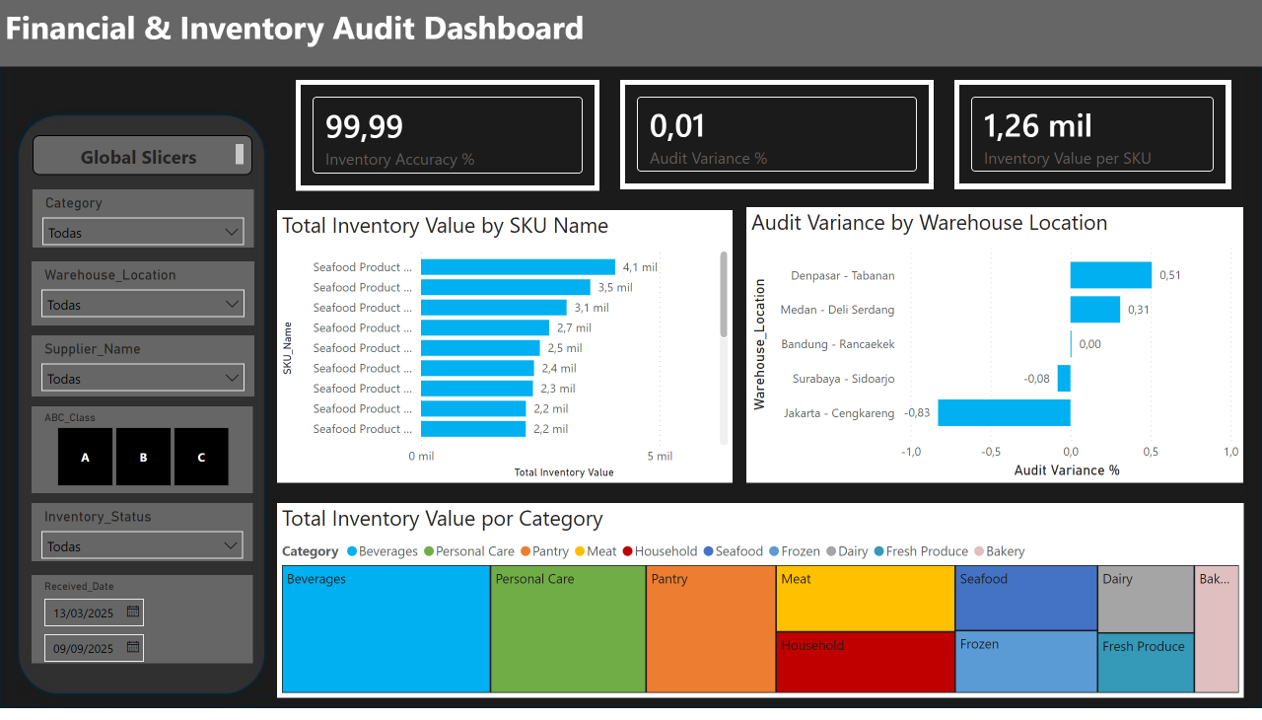

Layout of this report page (visuals, bound fields, positions):
{"tool":"powerbi","page":{"name":"FINANCIAL & AUDIT","canvas":[1280,720],"ordinal":4},"visuals":[{"type":"cardVisual","fields":{"Data":["Inventory.Inventory Accuracy %"]},"box":[299.5,80.6,308.2,112.3],"z":0},{"type":"cardVisual","fields":{"Data":["Inventory.Audit Variance %"]},"box":[629.3,80.6,318.2,110.9],"z":1000},{"type":"cardVisual","fields":{"Data":["Inventory.Inventory Value per SKU"]},"box":[967.7,80.6,280.8,110.9],"z":2000},{"type":"treemap","fields":{"Group":["Inventory.Category"],"Values":["Inventory.Total Inventory Value"]},"box":[280.8,509.8,980.6,197.3],"z":3000},{"type":"barChart","title":"Audit Variance  by Warehouse Location","fields":{"Category":["Inventory.Warehouse_Location"],"Y":["Inventory.Audit Variance %"]},"box":[757.4,210.2,504,279.4],"z":4000},{"type":"barChart","title":"Total Inventory Value by SKU Name","fields":{"Category":["Inventory.SKU_Name"],"Y":["Inventory.Total Inventory Value"]},"box":[280.8,213.1,462.2,276.5],"z":5000},{"type":"slicer","fields":{"Values":["Inventory.Category"]},"box":[33.1,191.5,224.6,59],"z":6000},{"type":"slicer","fields":{"Values":["Inventory.Warehouse_Location"]},"box":[31.7,265,226.1,64.8],"z":7000},{"type":"slicer","fields":{"Values":["Inventory.Supplier_Name"]},"box":[31.7,339.8,226.1,61.9],"z":8000},{"type":"slicer","fields":{"Values":["Inventory.ABC_Class"]},"box":[31.7,411.8,224.6,87.8],"z":9000},{"type":"slicer","fields":{"Values":["Inventory.Inventory_Status"]},"box":[31.7,509.8,224.6,59],"z":10000},{"type":"slicer","fields":{"Values":["Inventory.Received_Date"]},"box":[31.7,583.2,224.6,89.3],"z":11000},{"type":"textbox","box":[33.1,136.8,223.2,40.3],"z":12000},{"type":"textbox","box":[0,0,1280.2,67.7],"z":13000}]}

Visuals, with their boxes in screenshot pixels (x1, y1, x2, y2), scaled from the page's 1280x720 canvas onto the 1262x720 screenshot:
cardVisual - Inventory.Inventory Accuracy %: x1=295, y1=81, x2=599, y2=193
cardVisual - Inventory.Audit Variance %: x1=620, y1=81, x2=934, y2=192
cardVisual - Inventory.Inventory Value per SKU: x1=954, y1=81, x2=1231, y2=192
treemap - Inventory.Category x Inventory.Total Inventory Value: x1=277, y1=510, x2=1244, y2=707
"Audit Variance  by Warehouse Location" barChart: x1=747, y1=210, x2=1244, y2=490
"Total Inventory Value by SKU Name" barChart: x1=277, y1=213, x2=733, y2=490
slicer - Inventory.Category: x1=33, y1=192, x2=254, y2=250
slicer - Inventory.Warehouse_Location: x1=31, y1=265, x2=254, y2=330
slicer - Inventory.Supplier_Name: x1=31, y1=340, x2=254, y2=402
slicer - Inventory.ABC_Class: x1=31, y1=412, x2=253, y2=500
slicer - Inventory.Inventory_Status: x1=31, y1=510, x2=253, y2=569
slicer - Inventory.Received_Date: x1=31, y1=583, x2=253, y2=672
textbox: x1=33, y1=137, x2=253, y2=177
textbox: x1=0, y1=0, x2=1261, y2=68
